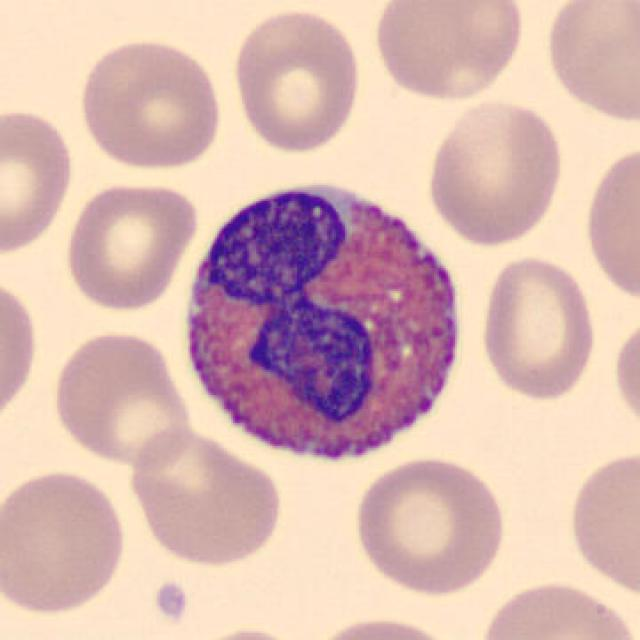Eosinophil: (172, 158, 480, 486)
Platelets: (150, 578, 190, 624)
RBC: (123, 423, 286, 570), (348, 453, 511, 598), (423, 95, 567, 249), (48, 326, 194, 471), (74, 35, 226, 173), (228, 3, 364, 157), (0, 464, 130, 619), (60, 178, 201, 314), (475, 252, 599, 404), (368, 0, 528, 104), (538, 0, 640, 125), (563, 444, 640, 601), (0, 104, 78, 257), (472, 576, 638, 640), (579, 137, 640, 306), (0, 272, 41, 430), (306, 612, 464, 640), (610, 310, 640, 439), (180, 624, 308, 640)
